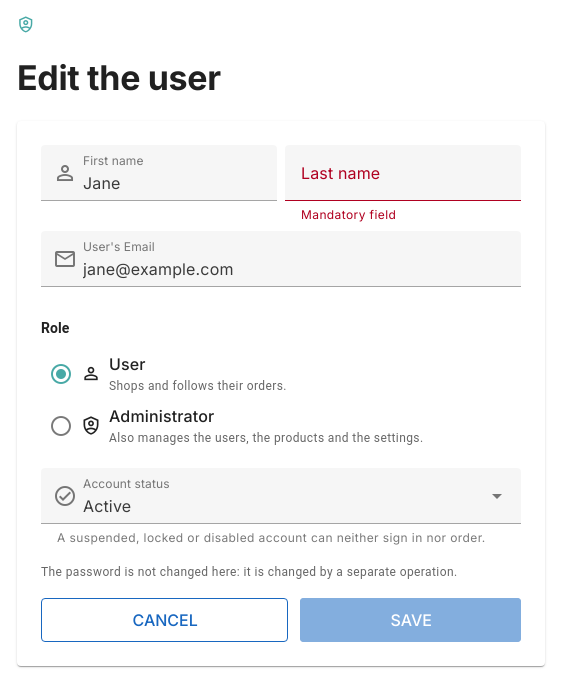
Scenario: EditUser.vue › a user without last name can be saved once the last name is filled in
In the field labelled "Last name": (403, 173) [285,145,521,201], type "Doe"
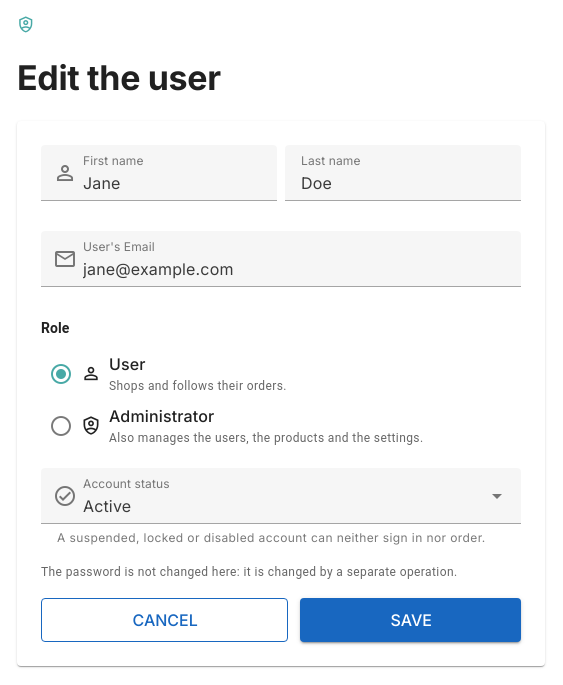
Expected: the button "Save" is enabled, [300,598,521,642]
